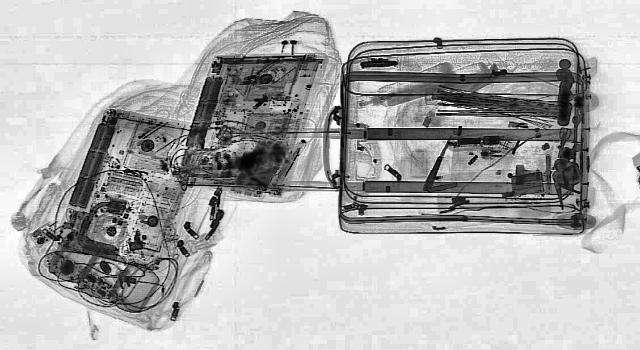Knife: (419, 136, 453, 190)
